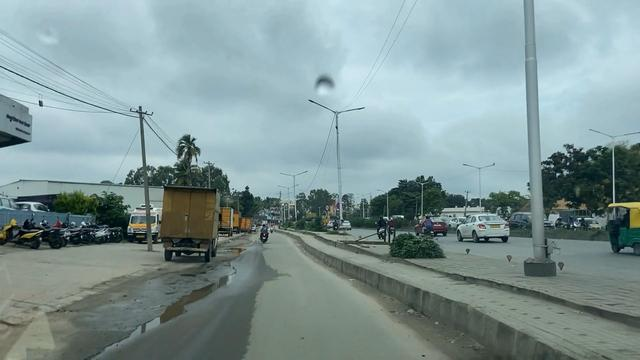HMV: (163, 186, 214, 259)
